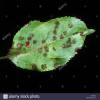Apple Scab Leaf: (5, 14, 98, 73)
